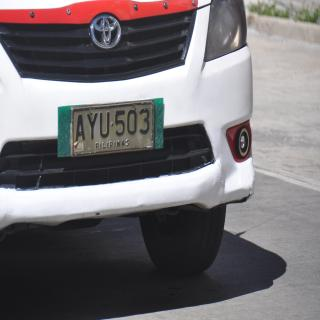license: (71, 102, 155, 157)
